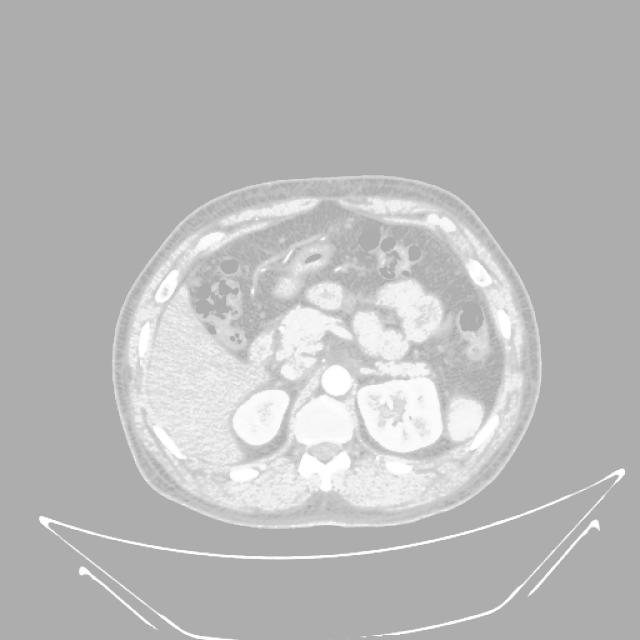NORMAL: (121, 173, 542, 524)
